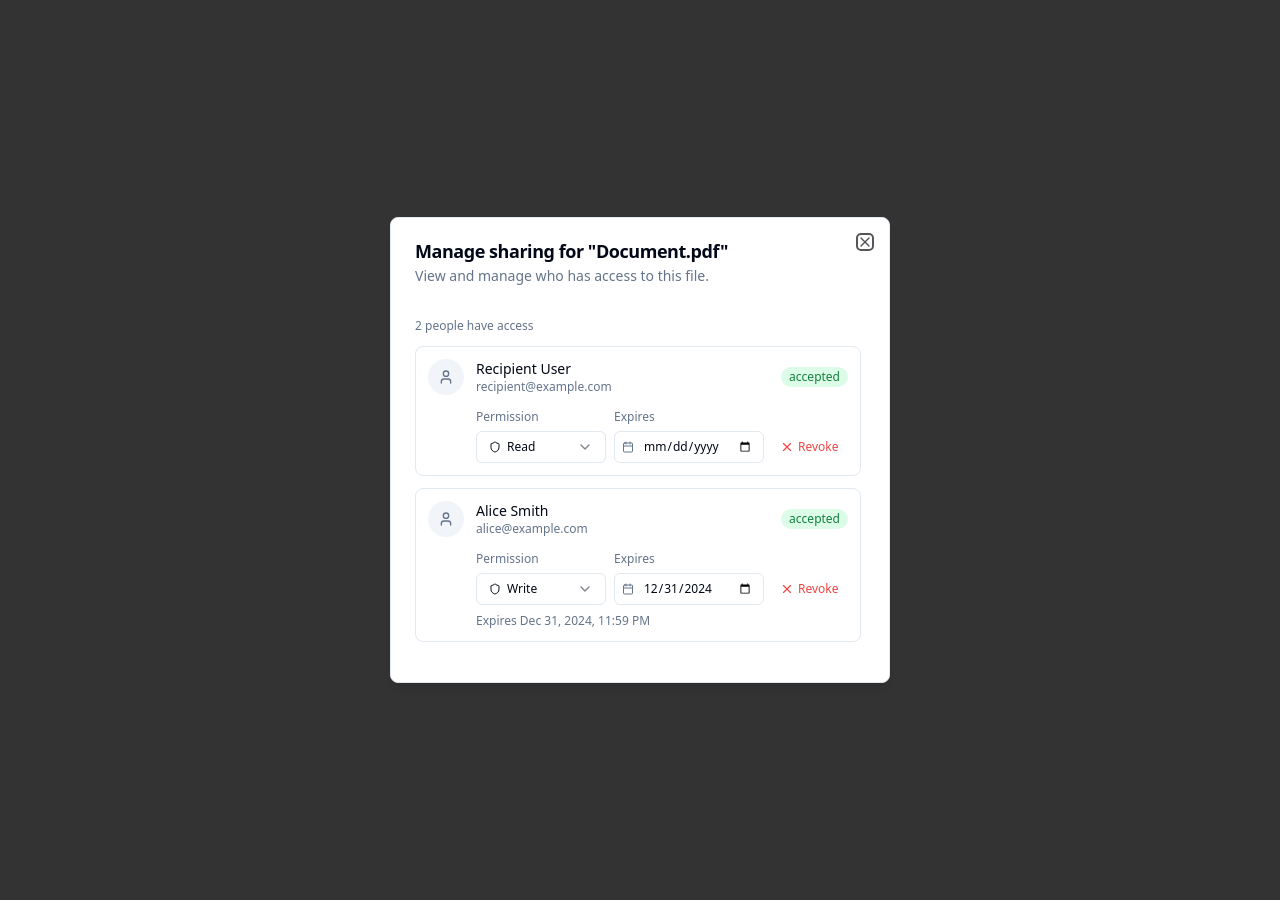
ShareDetailsDialog › should show confirm dialog when clicking revoke
The width and height of the screenshot is (1280, 900).
Expected: the text "Revoke" is shown 2 times, [798,439,838,455]; [798,581,838,597]
Click the button "Revoke" below "recipient@example.com": click(809, 447) [772,431,846,463]
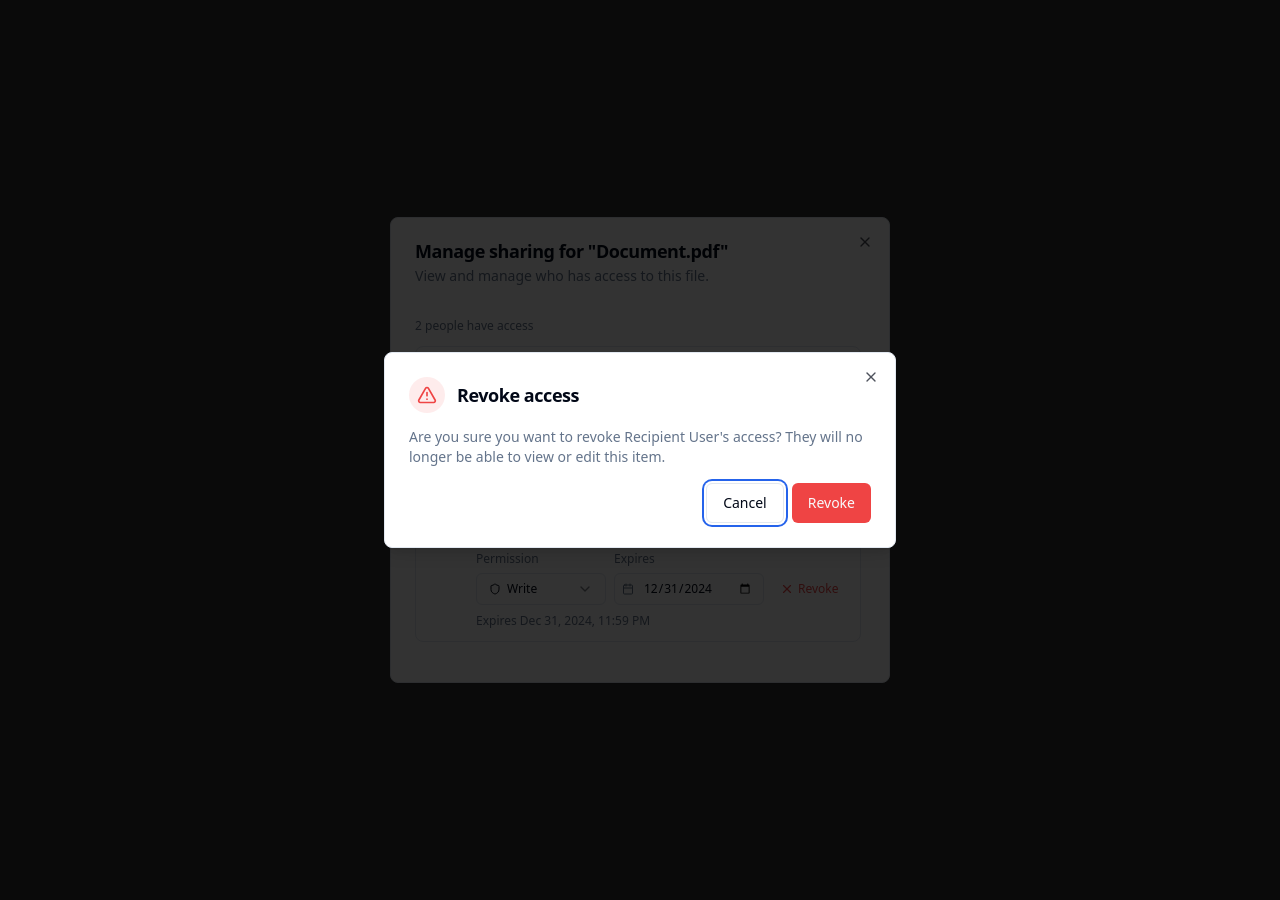
Expected: the heading "Revoke access" is shown, [457,386,579,404]
Expected: the text "Are you sure you want to revoke Recipient User's access? They will no longer be able to view or edit this item." is shown, [409,427,863,466]
